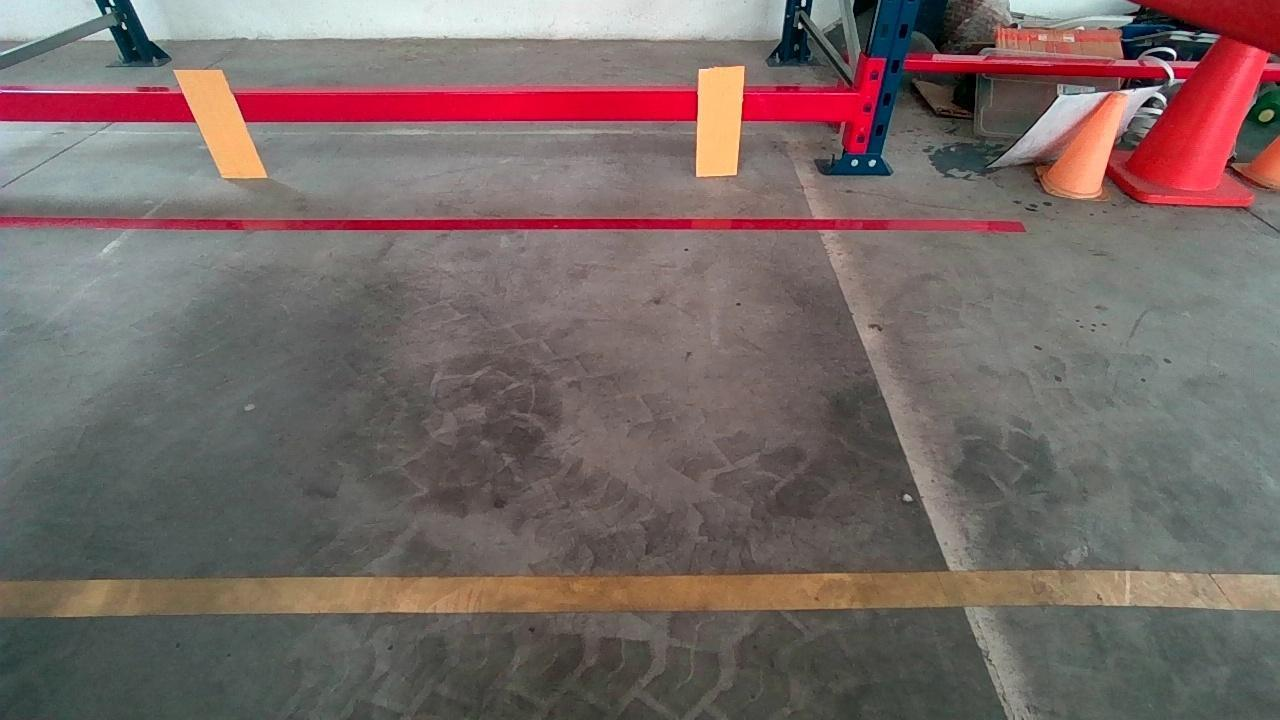h_rack: (11, 78, 841, 120)
orange_strip: (175, 69, 266, 175), (695, 68, 742, 175)
red_line: (10, 208, 1012, 235)
yellow_line: (14, 566, 1273, 619)
